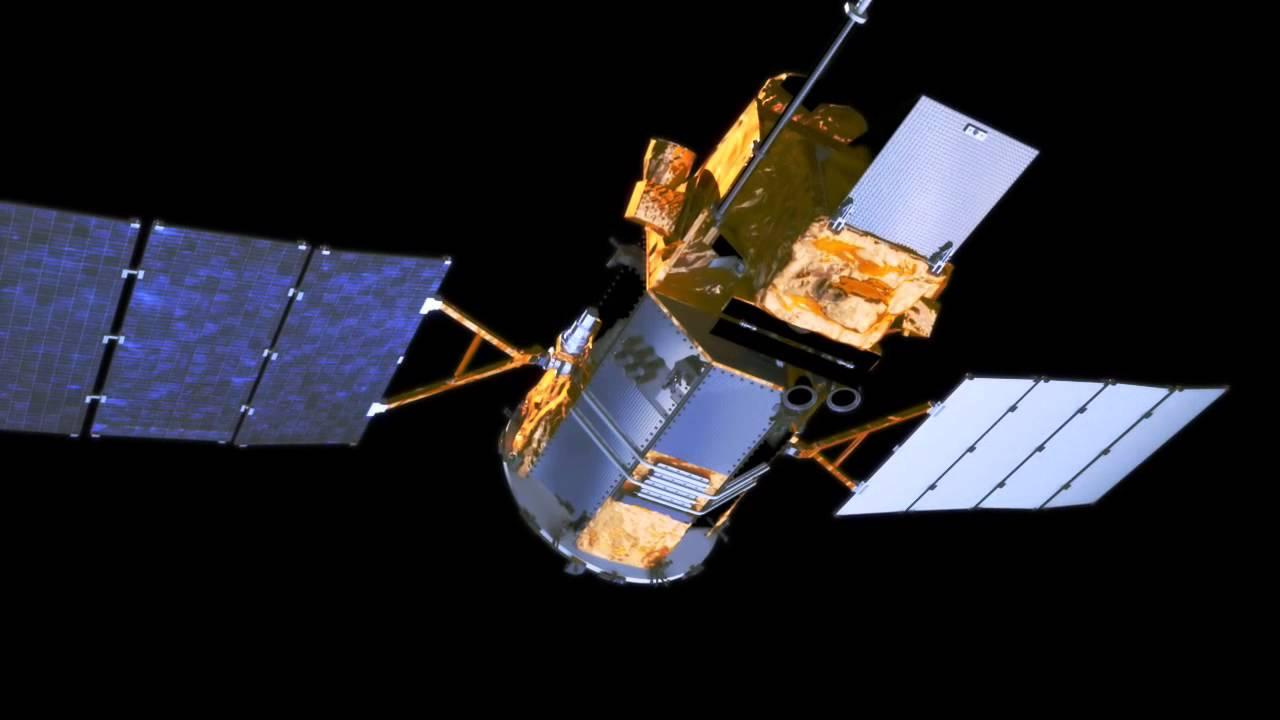body: (492, 75, 954, 599)
solar: (0, 199, 459, 452), (830, 370, 1234, 519)
